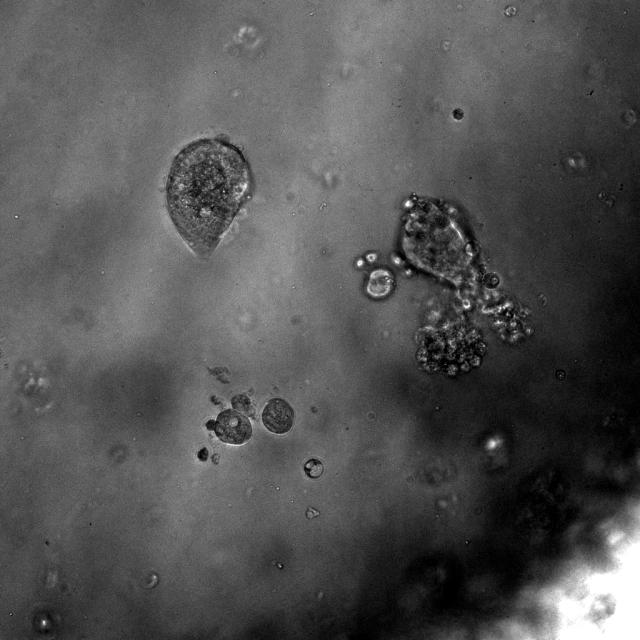organoid: (391, 194, 532, 376), (166, 138, 251, 254), (205, 392, 260, 446), (355, 252, 395, 300), (262, 398, 294, 434), (302, 457, 324, 478), (305, 506, 320, 519), (504, 5, 518, 17), (197, 446, 208, 461), (453, 108, 464, 120), (211, 452, 220, 464)
